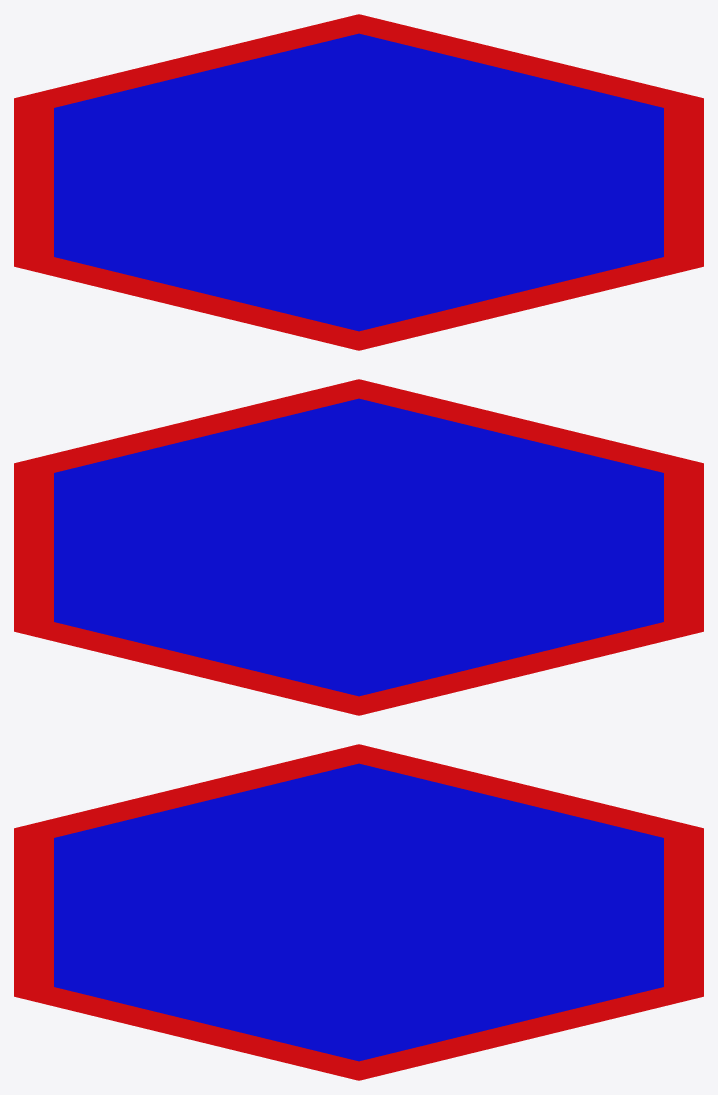
Rendered from hex2.fbx.
3 views of the same model, one above another, from view 1: azimuth 30°, elevation 25°; view 2: azimuth 150°, elevation 25°; view 3: azimuth 270°, elevation 25° (orthographic).
Parts seen in each view (by area): view 1: Circle; view 2: Circle; view 3: Circle.
Boxes of the visible parts, x1,y1,x2,y2 form: Circle: [14, 14, 703, 350]; Circle: [14, 379, 703, 715]; Circle: [14, 744, 703, 1080].
Bounding box in the file's own units: 200 × 2.82e-05 × 173.
